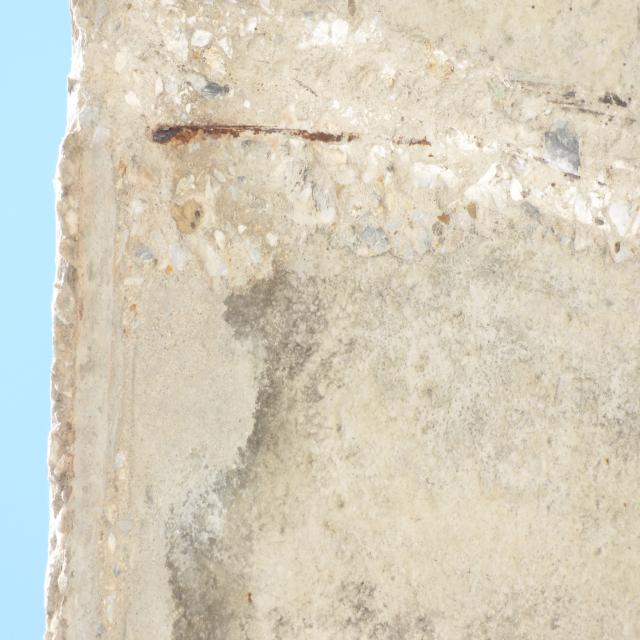corrosion: (135, 106, 428, 164)
